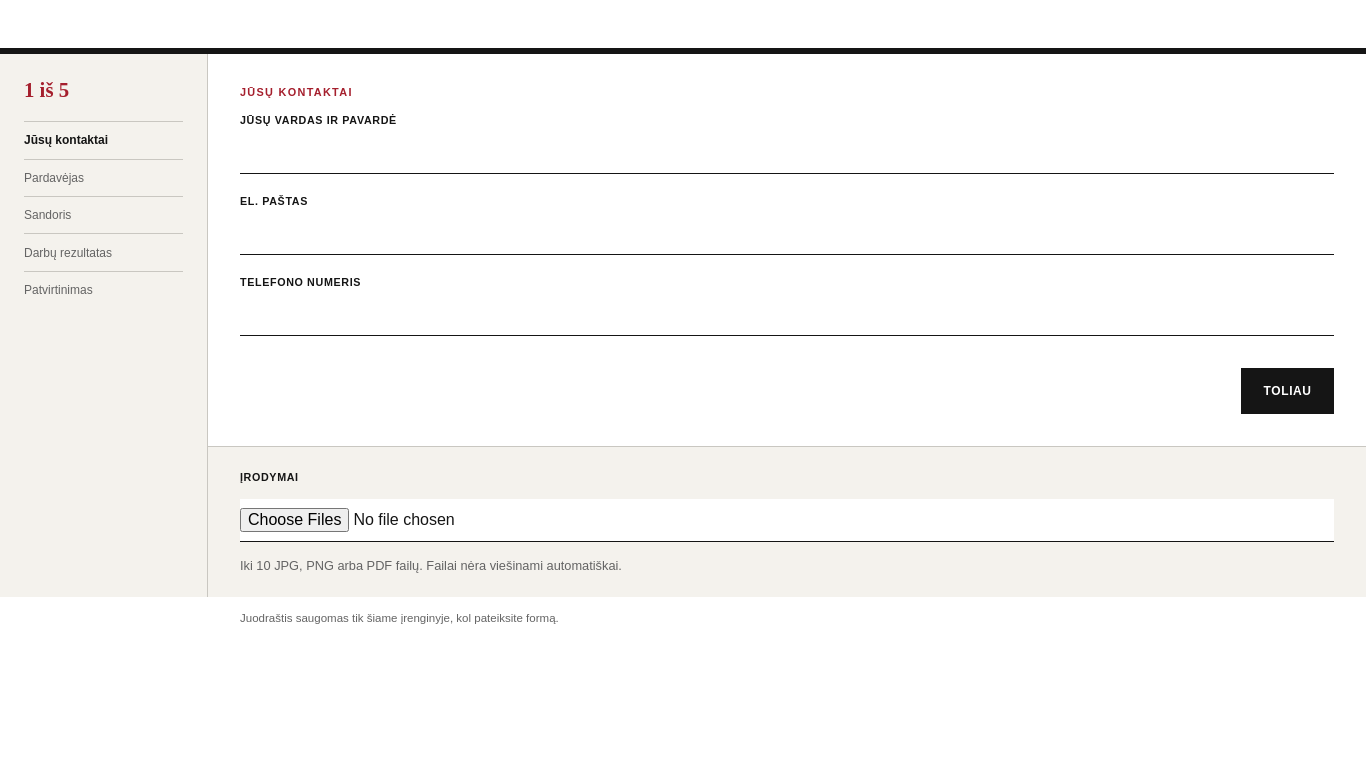
validates the current step before moving forward
Click the button "Toliau".
click(1288, 391)  # box [1241, 368, 1334, 414]
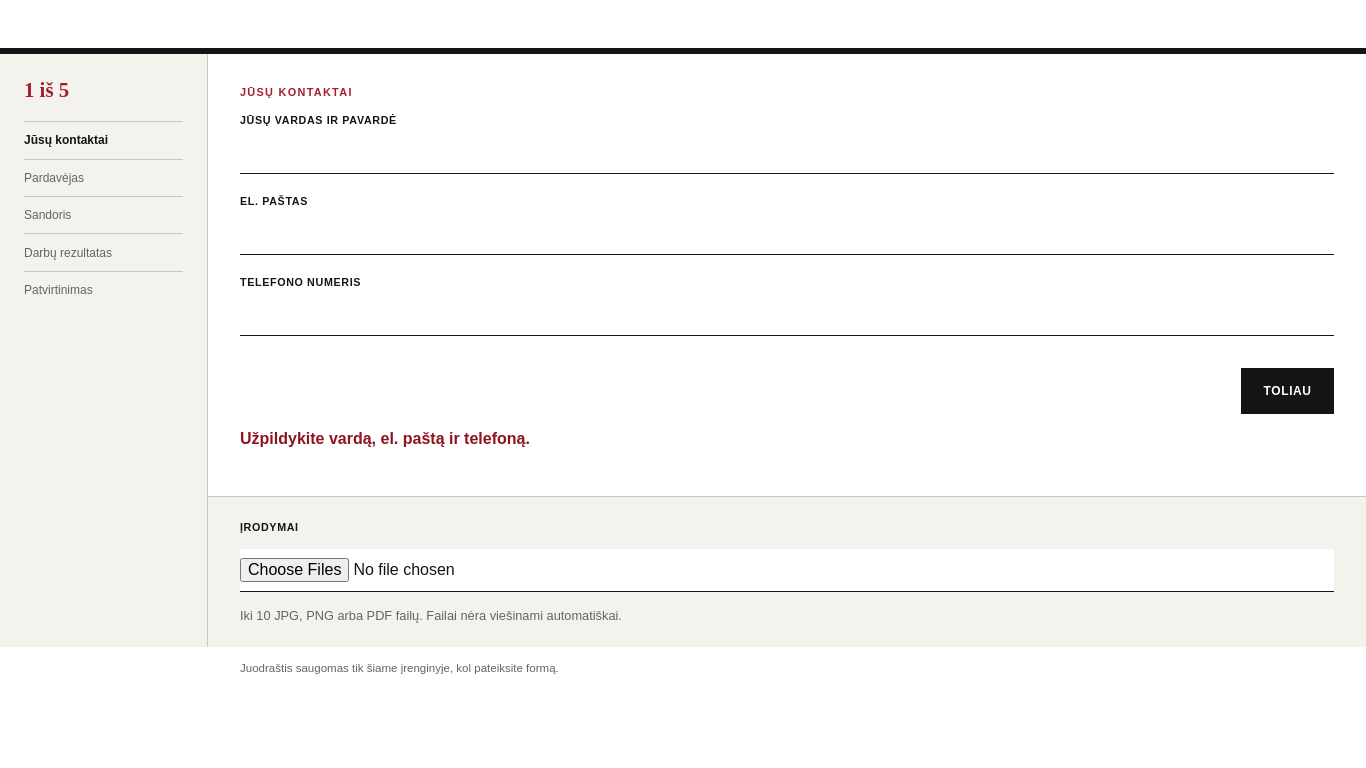
Expected: the text "1 iš 5" is shown, [24, 78, 69, 101]
Expected: the text "Užpildykite vardą, el. paštą ir telefoną." is shown, [240, 430, 530, 447]
